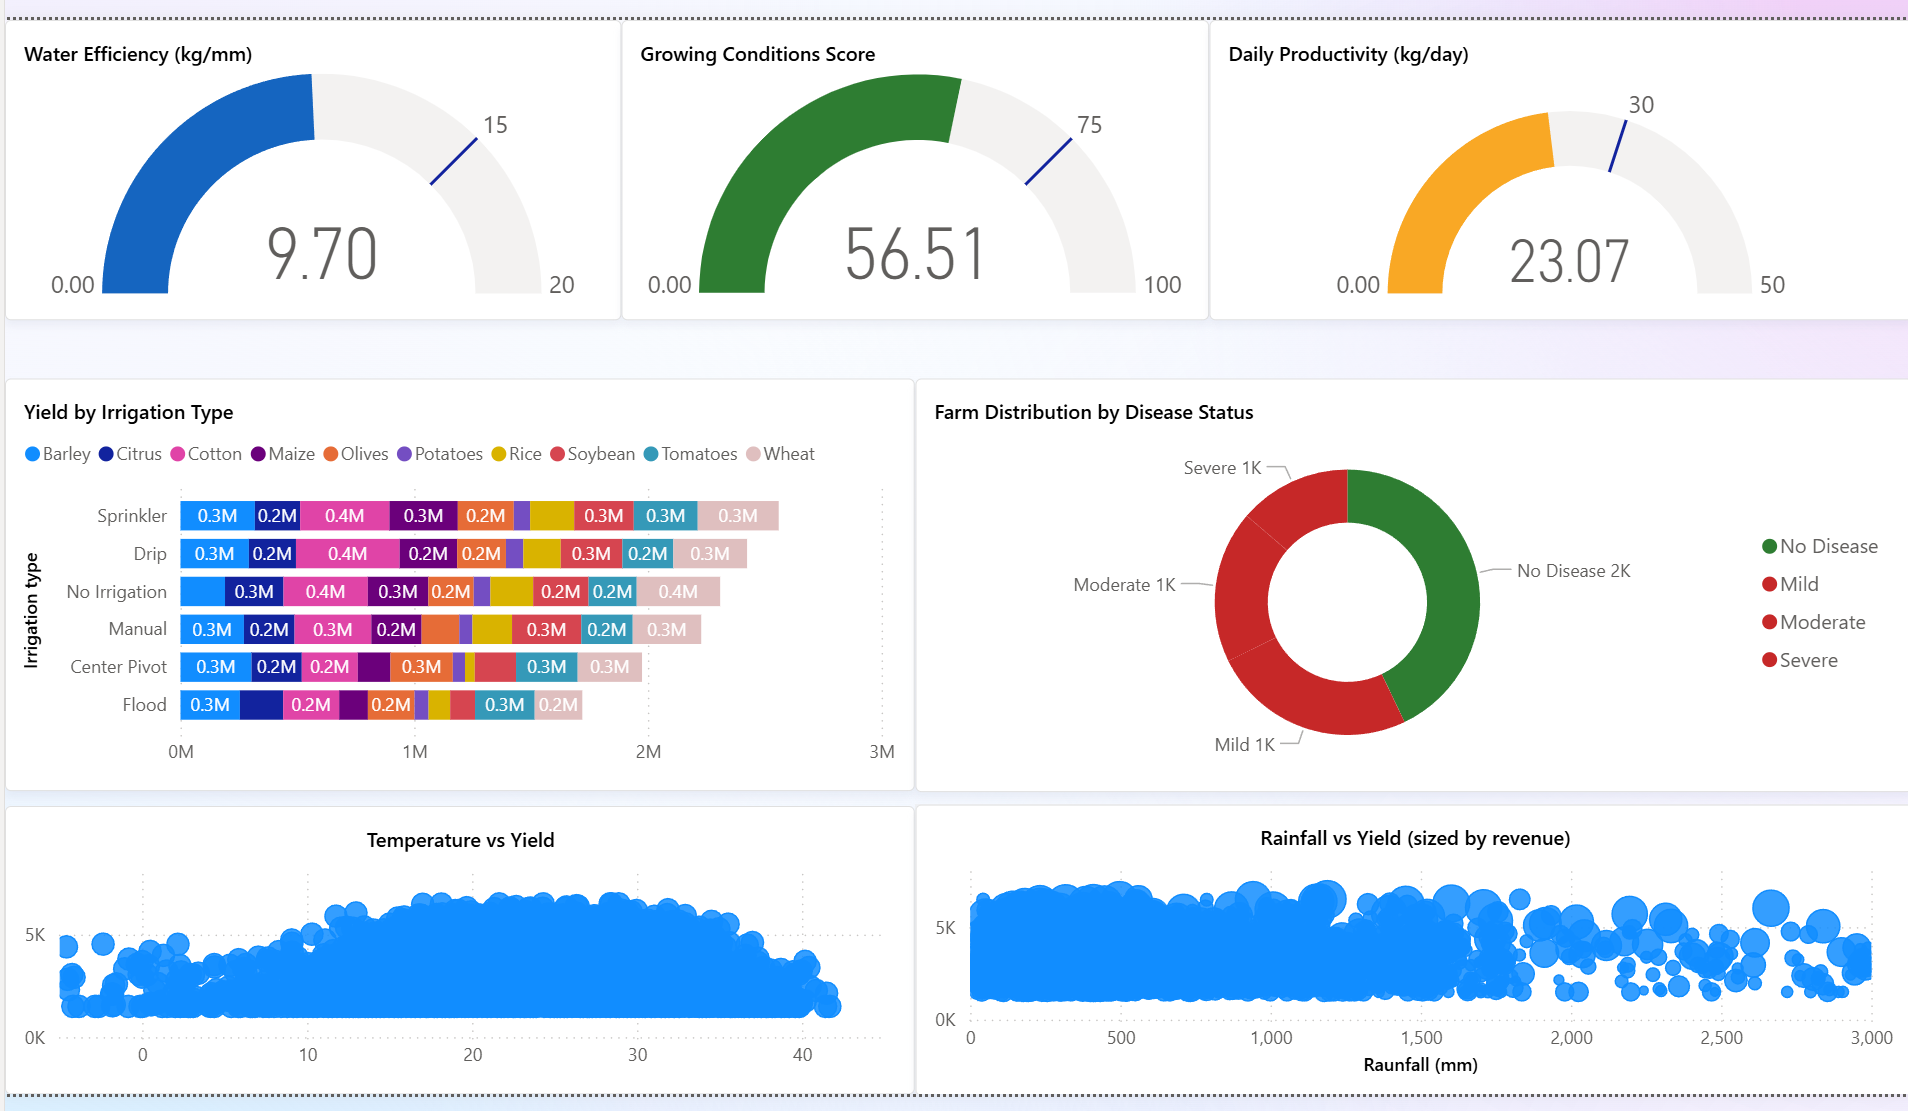

What the dashboard file says about the page in this screenshot:
{"tool":"powerbi","page":{"name":"Operational Performance","canvas":[1280,720],"ordinal":1},"visuals":[{"type":"gauge","title":"Water Efficiency (kg/mm)","fields":{"Y":["Fact_Production.Water Efficiency"],"TargetValue":["Fact_Production.15"],"MaxValue":["Dim_Crop.20"]},"box":[0,0,413.4,201.3],"z":0},{"type":"gauge","title":"Growing Conditions Score","fields":{"Y":["Fact_Production.Conditions Score"],"TargetValue":["Dim_Crop.75"],"MaxValue":["Dim_Crop.100"]},"box":[413.4,0,394,201.3],"z":1000},{"type":"gauge","title":"Daily Productivity (kg/day)","fields":{"Y":["Fact_Production.Daily Productivity"],"TargetValue":["Dim_Crop.30"],"MaxValue":["Dim_Crop.50"]},"box":[807.4,0,471.9,201.3],"z":2000},{"type":"barChart","title":"Yield by Irrigation Type","fields":{"Category":["Dim_Irrigation.irrigation_type"],"Y":["Fact_Production.Total Yield"],"Series":["Dim_Crop.crop_type"]},"box":[0,240.7,610.1,276.5],"z":3000},{"type":"donutChart","title":"Farm Distribution by Disease Status","fields":{"Category":["Dim_Disease.disease_status"],"Y":["Fact_Production.Farm Count"]},"box":[610.4,240.3,668.9,277.1],"z":4000},{"type":"scatterChart","title":"Temperature vs Yield","fields":{"X":["Fact_Production.temperature_C"],"Y":["Fact_Production.yield_kg_per_hectare"]},"box":[0,527,610,193],"z":5000},{"type":"scatterChart","title":"Rainfall vs Yield (sized by revenue)","fields":{"X":["Fact_Production.rainfall_mm"],"Y":["Fact_Production.yield_kg_per_hectare"],"Size":["Fact_Production.Total Revenue"]},"box":[610.1,525.7,669.2,195.3],"z":6000}]}

Visuals, with their boxes on the page's 1280x720 design canvas (x1, y1, x2, y2). These are canvas units, not pixel positions in the 1908x1111 screenshot, which may show the page scaled, cropped or inside an application window:
"Water Efficiency (kg/mm)" gauge: 0/0/413/201
"Growing Conditions Score" gauge: 413/0/807/201
"Daily Productivity (kg/day)" gauge: 807/0/1279/201
"Yield by Irrigation Type" barChart: 0/241/610/517
"Farm Distribution by Disease Status" donutChart: 610/240/1279/517
"Temperature vs Yield" scatterChart: 0/527/610/720
"Rainfall vs Yield (sized by revenue)" scatterChart: 610/526/1279/721
